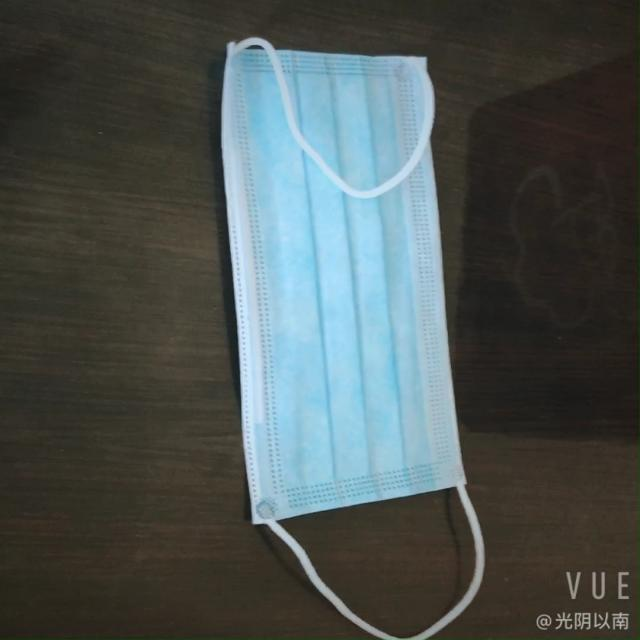face mask: (218, 38, 468, 540)
